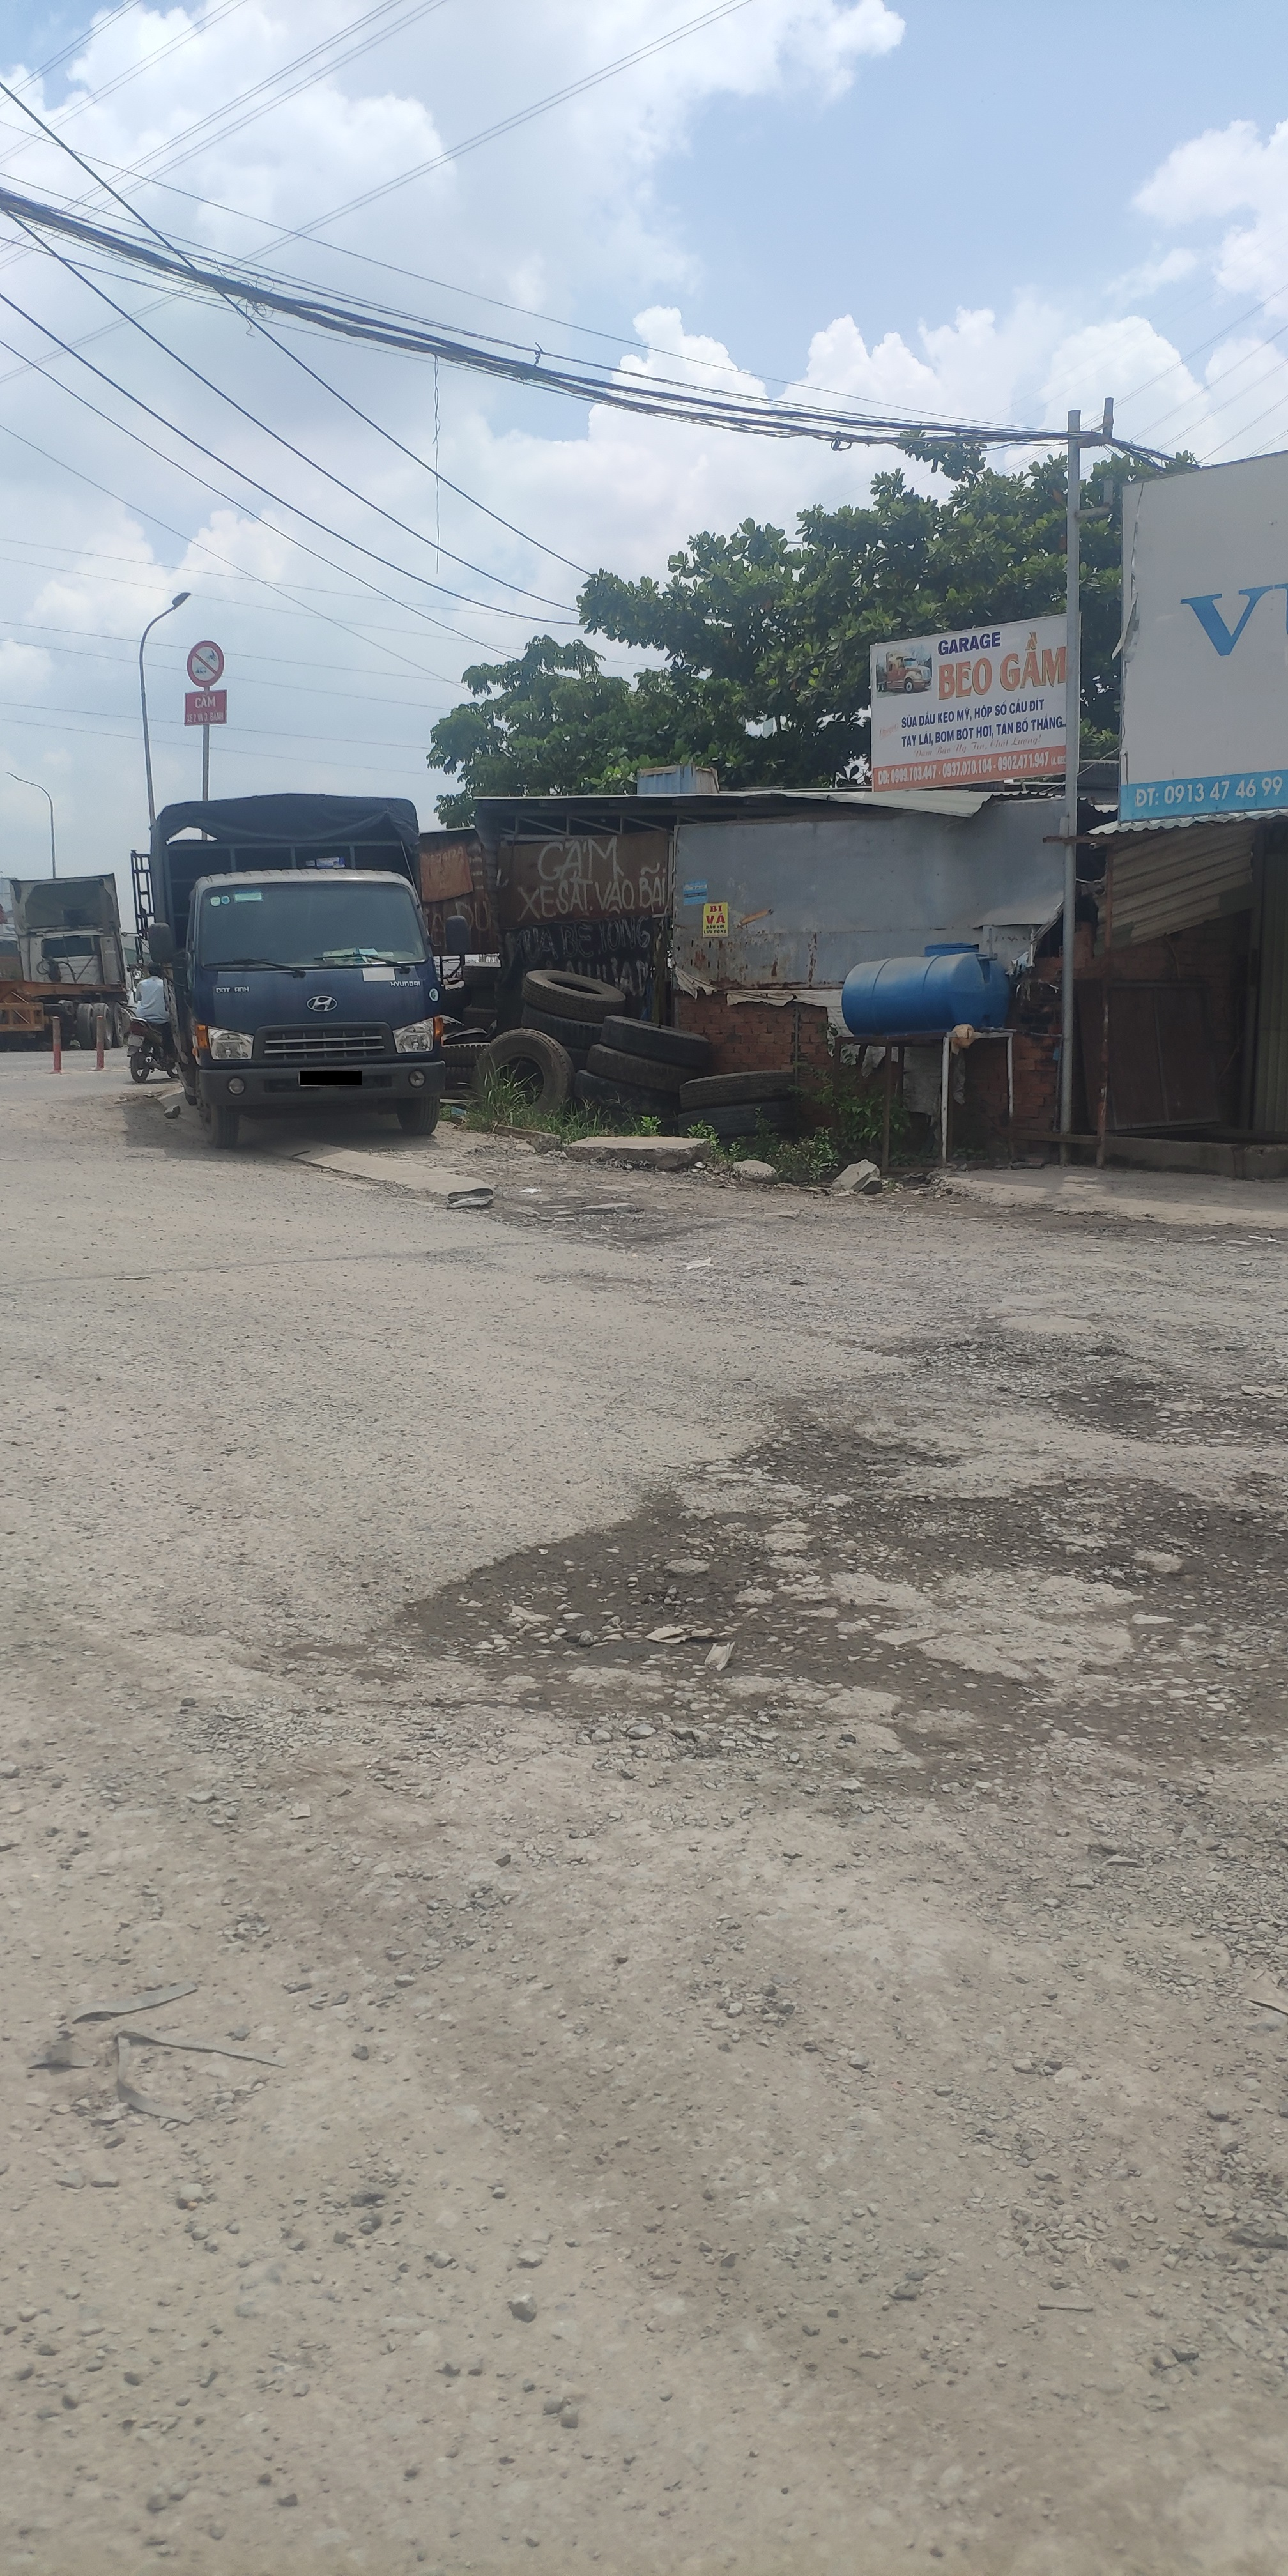hole: (383, 1500, 859, 1705), (1122, 1500, 1288, 1640), (1053, 1370, 1288, 1460), (881, 1488, 1112, 1571), (793, 1410, 951, 1482), (499, 1188, 654, 1255), (913, 1326, 1046, 1390)
